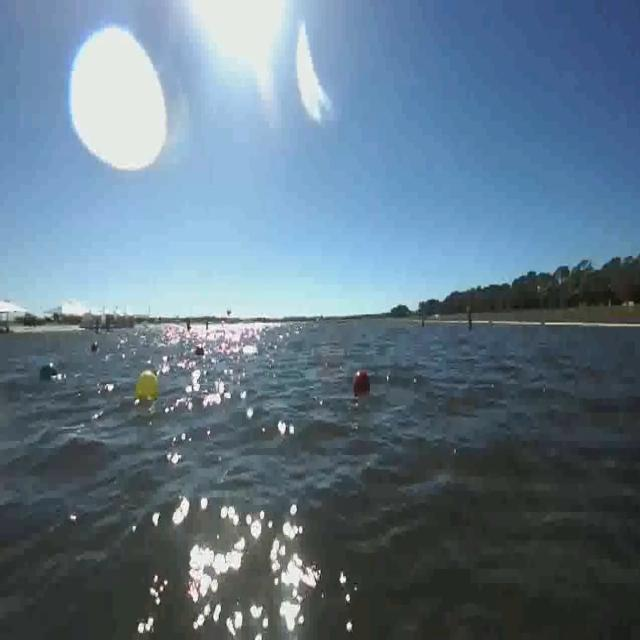red-buoy: (352, 367, 370, 396)
yellow-buoy: (136, 368, 162, 405)
